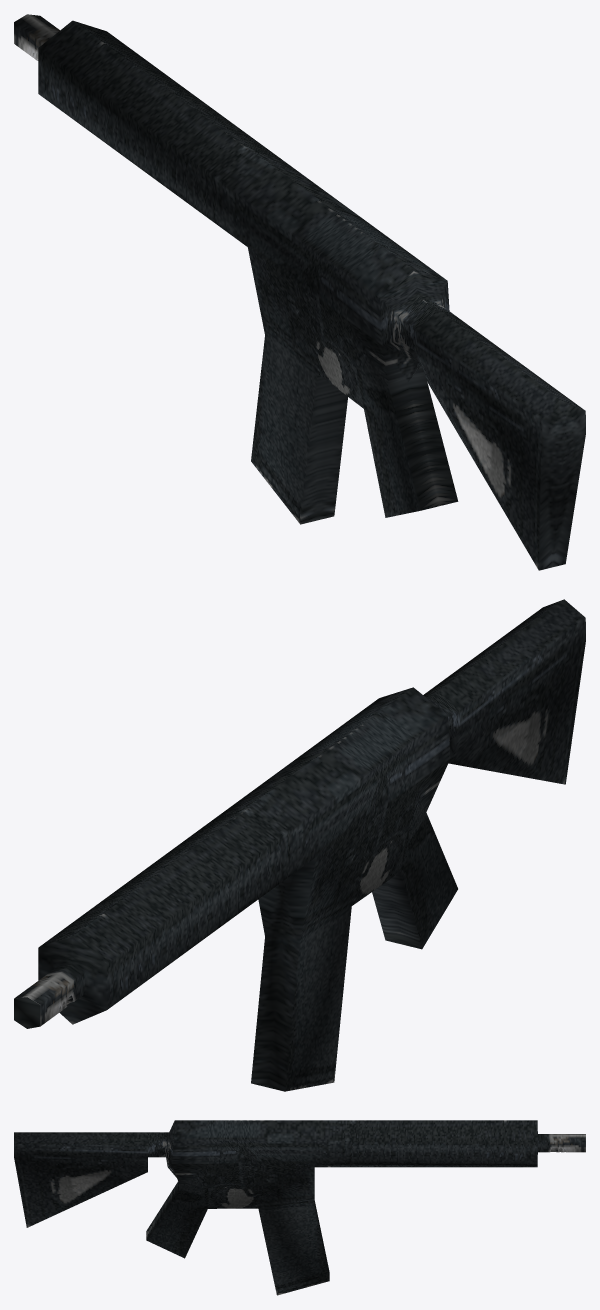
File: automatic_rifle.fbx
3 renders of one model, top to bottom at view 1: azimuth 30°, elevation 25°; view 2: azimuth 150°, elevation 25°; view 3: azimuth 270°, elevation 25°, orthographic. The views are drawn at different scales.
Visible parts, largest first — view 1: Cube; view 2: Cube; view 3: Cube.
Part boxes in pixels (box(x1,y1,x2,y2)): Cube: box(14, 14, 585, 570); Cube: box(14, 599, 585, 1091); Cube: box(14, 1120, 585, 1295).
Size of the model in its own units: 52.09 by 233 by 707.
Materials: 1 (1 with a texture image).
